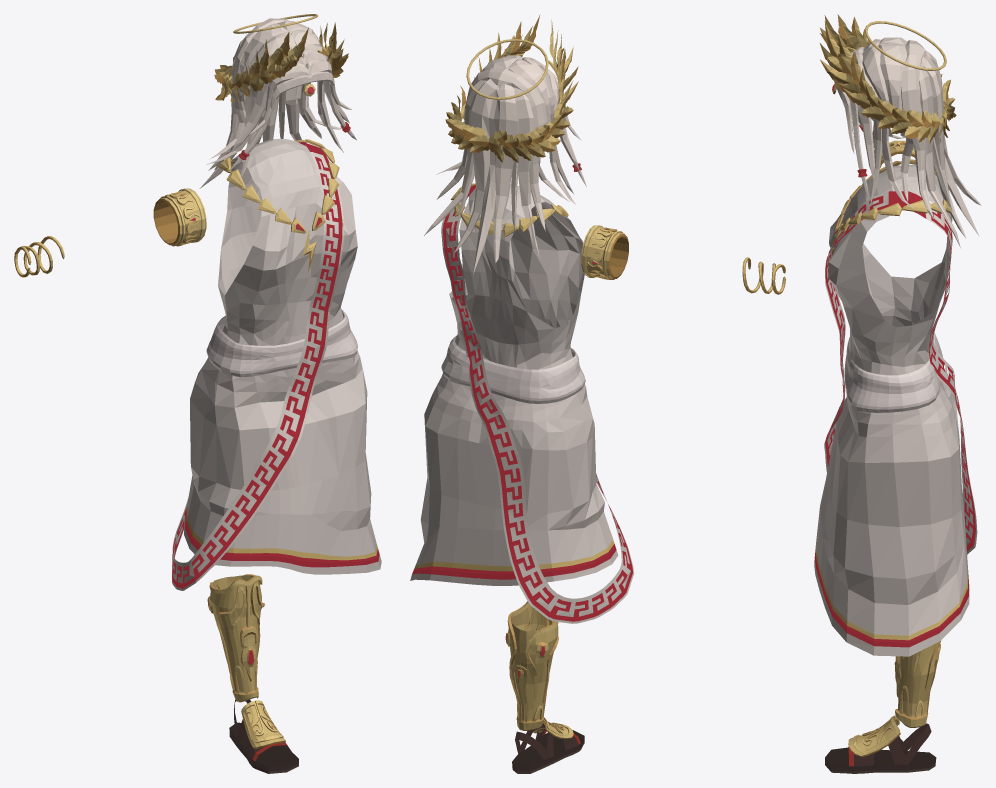
Rendered from greekZeusFemale.glb.
3 views of the same model, side by side, from view 1: azimuth 30°, elevation 25°; view 2: azimuth 150°, elevation 25°; view 3: azimuth 270°, elevation 25° (orthographic). The views are drawn at different scales.
Visible parts, largest first — view 1: greekZeusBody, greekZeusHairwithWreath, greekZeusLegArmor, greekZeusFootArmor, greekZeusUpperArmBrace, greekZeusWristBand; view 2: greekZeusBody, greekZeusHairwithWreath, greekZeusLegArmor, greekZeusFootArmor, greekZeusUpperArmBrace, greekZeusWristBand; view 3: greekZeusBody, greekZeusHairwithWreath, greekZeusFootArmor, greekZeusLegArmor.
Boxes of the visible parts, <box> form: greekZeusBody: <box>172,139,381,590</box>; greekZeusHairwithWreath: <box>199,14,356,188</box>; greekZeusLegArmor: <box>207,574,264,702</box>; greekZeusFootArmor: <box>229,699,298,773</box>; greekZeusUpperArmBrace: <box>153,188,206,246</box>; greekZeusWristBand: <box>14,236,64,277</box>; greekZeusBody: <box>410,183,634,623</box>; greekZeusHairwithWreath: <box>424,14,586,274</box>; greekZeusLegArmor: <box>505,601,558,730</box>; greekZeusFootArmor: <box>512,717,584,773</box>; greekZeusUpperArmBrace: <box>581,225,628,279</box>; greekZeusWristBand: <box>742,257,785,294</box>; greekZeusBody: <box>814,159,977,656</box>; greekZeusHairwithWreath: <box>820,14,981,248</box>; greekZeusFootArmor: <box>825,715,936,773</box>; greekZeusLegArmor: <box>894,640,941,727</box>.
Size of the model in its own units: 1.01 by 1.97 by 0.3928.
